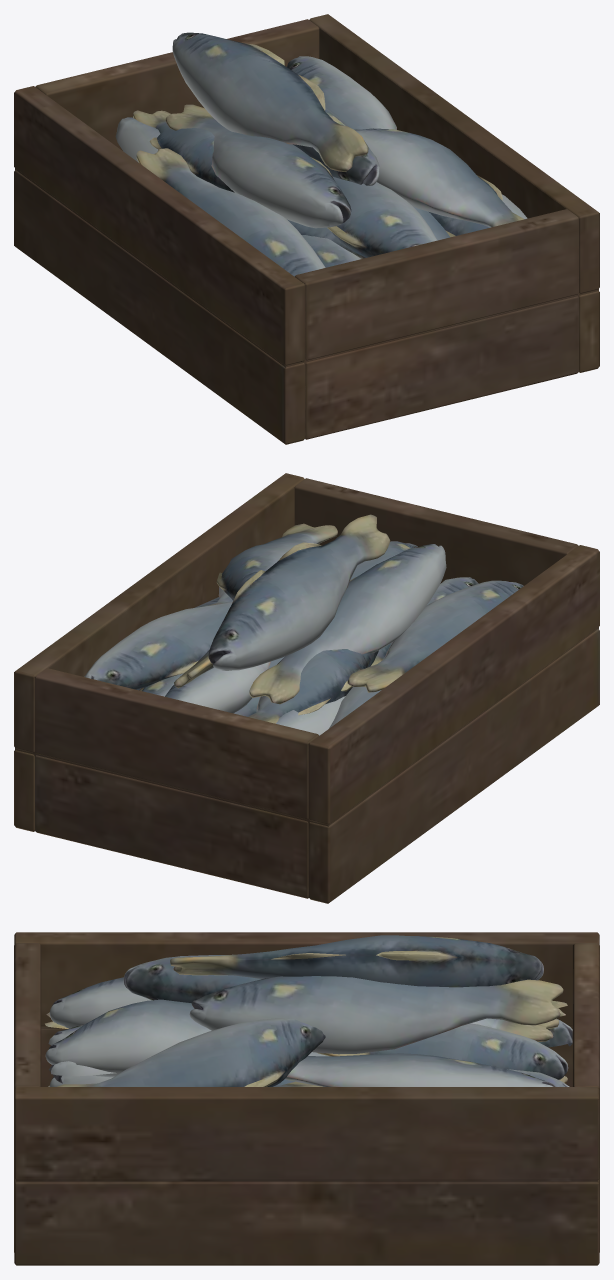
The model's file is FoodCrate_Fish.glb.
3 views of the same model, one above another, from view 1: azimuth 30°, elevation 25°; view 2: azimuth 150°, elevation 25°; view 3: azimuth 270°, elevation 25° (orthographic). The views are drawn at different scales.
Visible parts, largest first — view 1: WoodCrate, Fish_Pile Variant 1; view 2: WoodCrate, Fish_Pile Variant 1; view 3: WoodCrate, Fish_Pile Variant 1.
Boxes of the visible parts, x1=… form: WoodCrate: x1=14, y1=14, x2=599, y2=444; Fish_Pile Variant 1: x1=115, y1=32, x2=527, y2=276; WoodCrate: x1=14, y1=473, x2=599, y2=903; Fish_Pile Variant 1: x1=84, y1=514, x2=523, y2=735; WoodCrate: x1=14, y1=932, x2=599, y2=1265; Fish_Pile Variant 1: x1=45, y1=935, x2=572, y2=1086.
Size of the model in its own units: 0.4866 by 0.3274 by 0.7246.
Materials: 2 (2 with a texture image).
